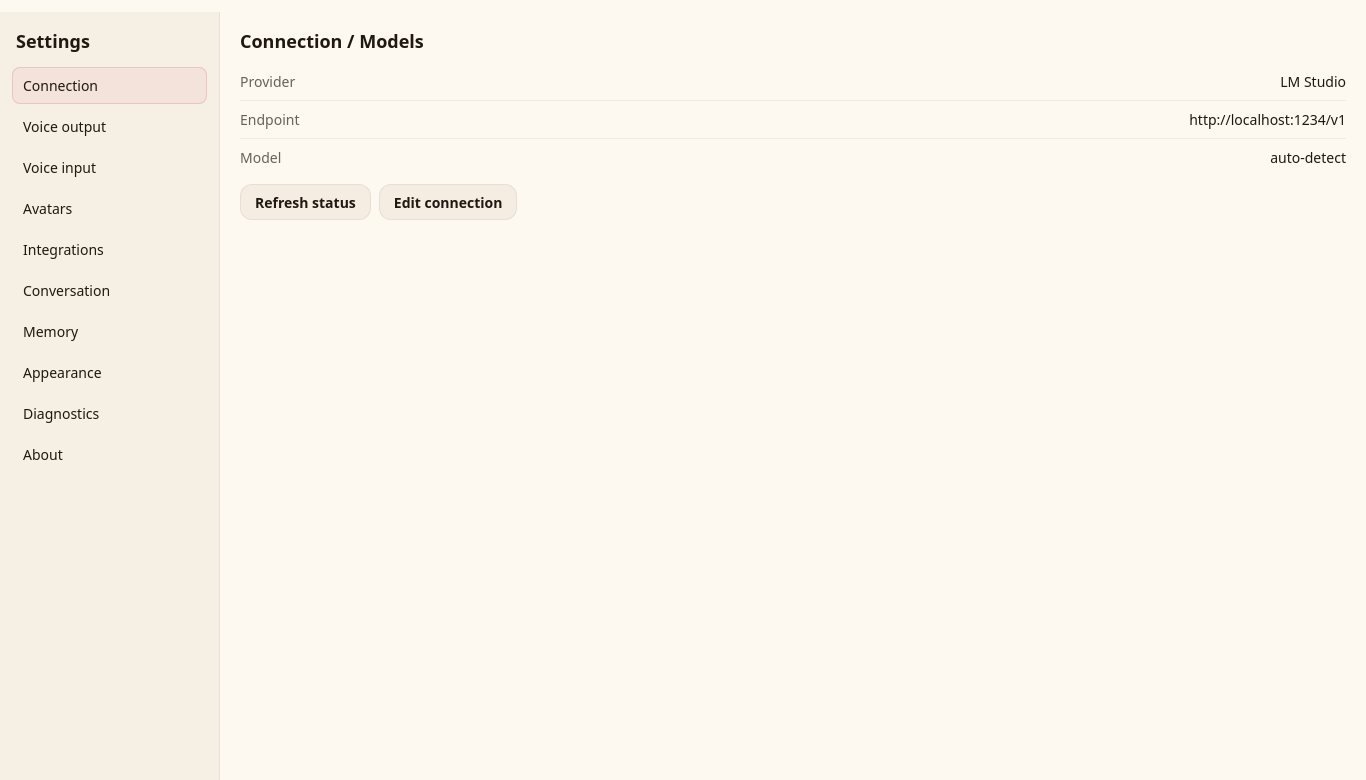
Test case: Settings TTS section › persists missing-model invalidation when removing a local STT model
Click the button "Voice input".
click(110, 168)  # box left=12, top=149, right=207, bottom=186
(page scrolled)
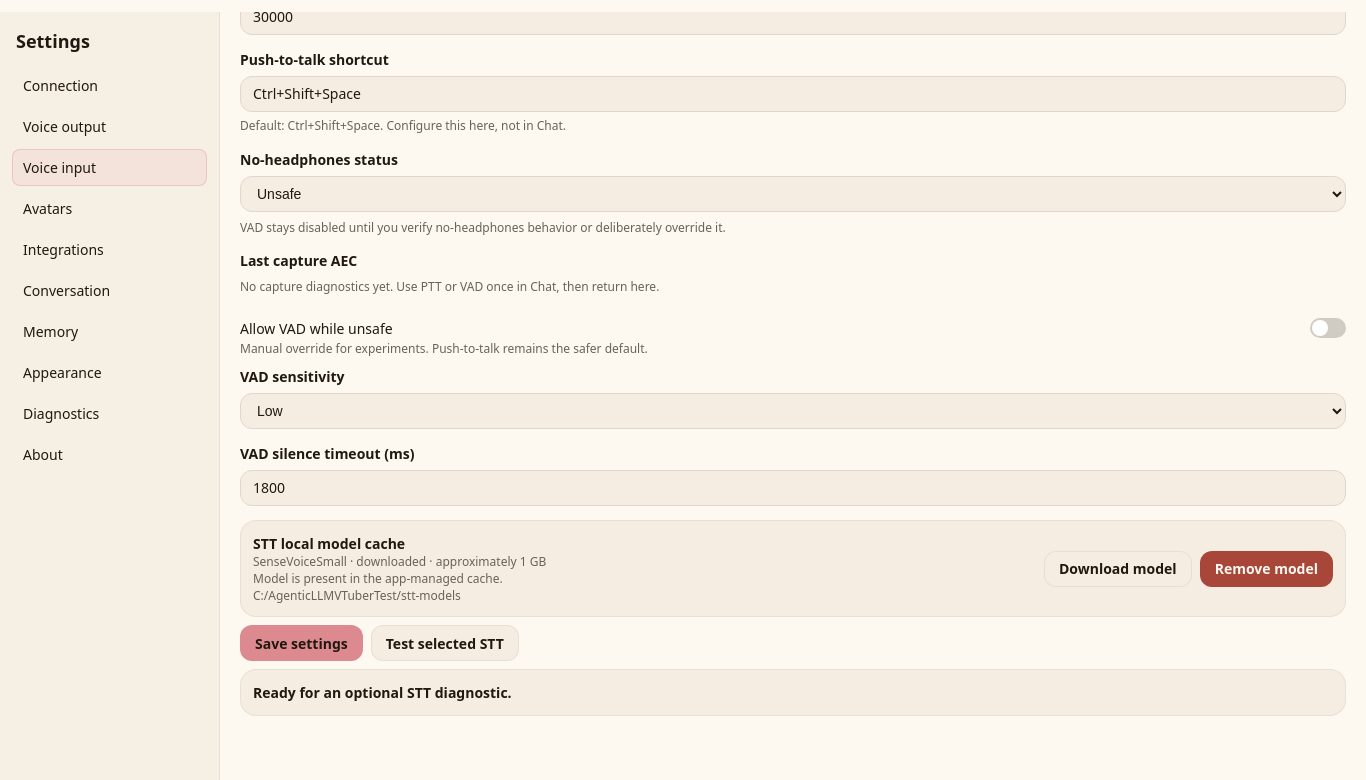
Click the button "Remove model".
click(1266, 569)  # box left=1200, top=551, right=1333, bottom=587
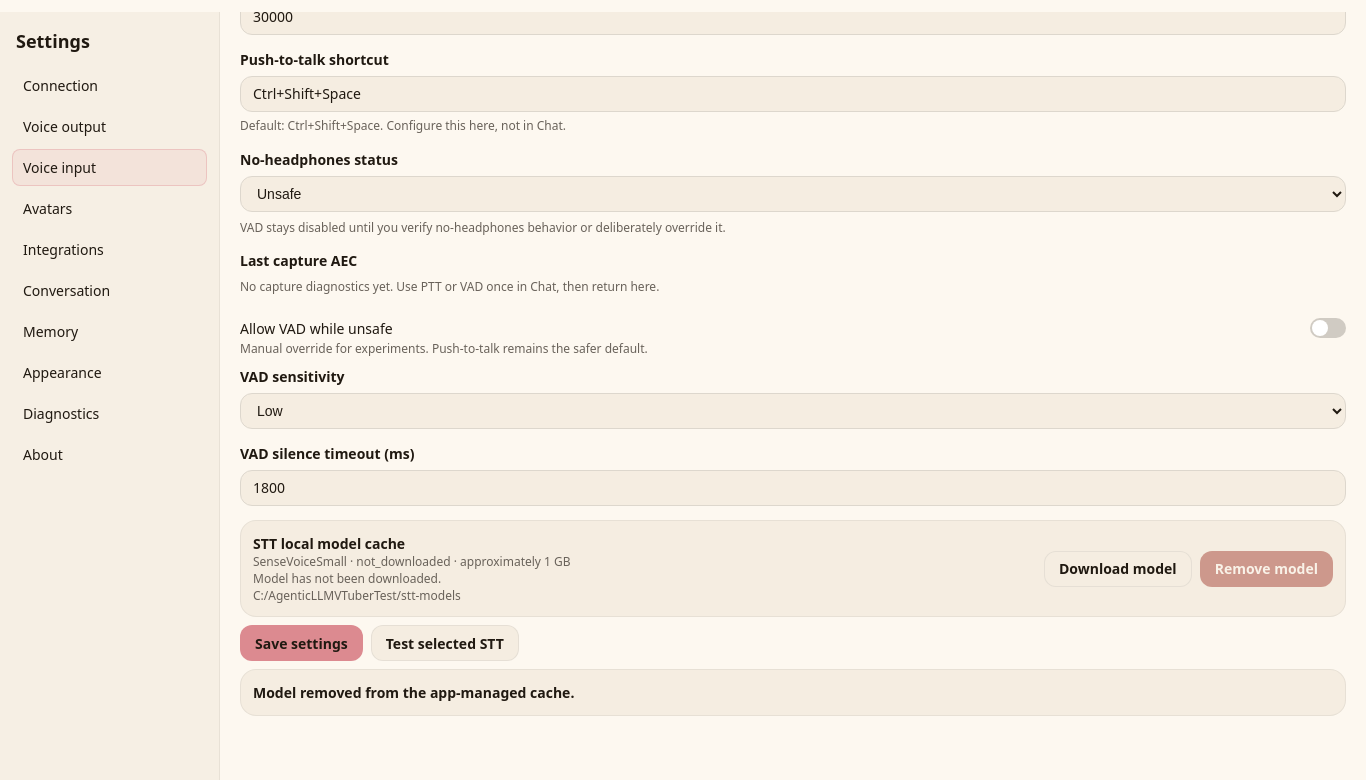
Expected: the text "STT local model cache" is shown, left=253, top=534, right=405, bottom=553
Expected: the text "Model removed from the app-managed cache." is shown, left=253, top=683, right=574, bottom=702
Expected: the text "SenseVoiceSmall · not_downloaded · approximately 1 GB" is shown, left=253, top=554, right=571, bottom=571
